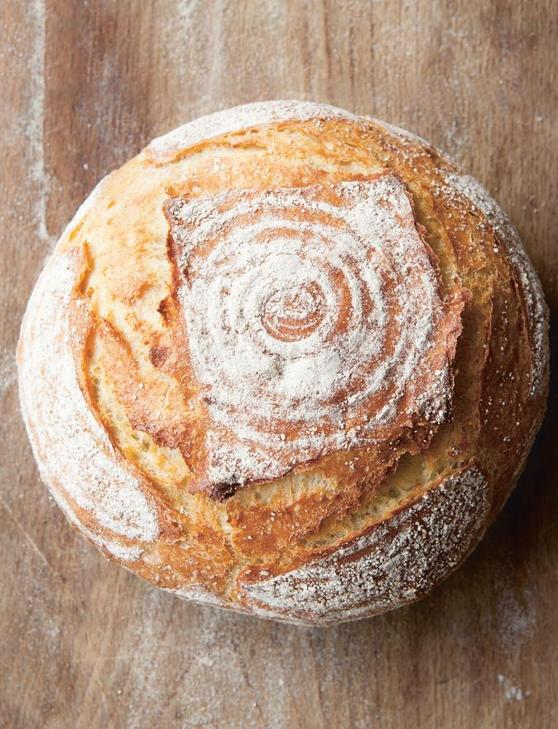white_bread: (20, 97, 553, 618)
